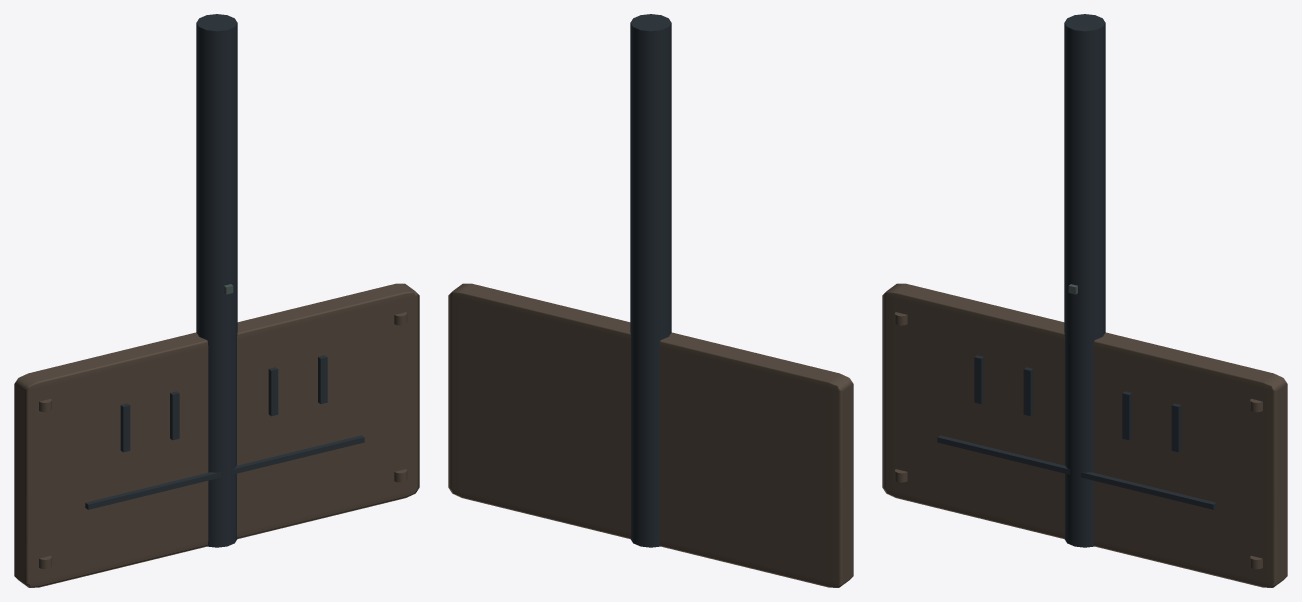
Rendered from sign-3.glb.
3 renders of one model, left to right at view 1: azimuth 30°, elevation 25°; view 2: azimuth 150°, elevation 25°; view 3: azimuth 330°, elevation 25°, orthographic.
Visible parts, largest first — view 1: sign/2/KR-230-3; view 2: sign/2/KR-230-3; view 3: sign/2/KR-230-3.
Boxes of the visible parts, left/top/right/bottom form: sign/2/KR-230-3: left=14, top=14, right=419, bottom=587; sign/2/KR-230-3: left=448, top=14, right=853, bottom=587; sign/2/KR-230-3: left=882, top=14, right=1287, bottom=587.
Size of the model in its own units: 2 by 2.5 by 0.202.
